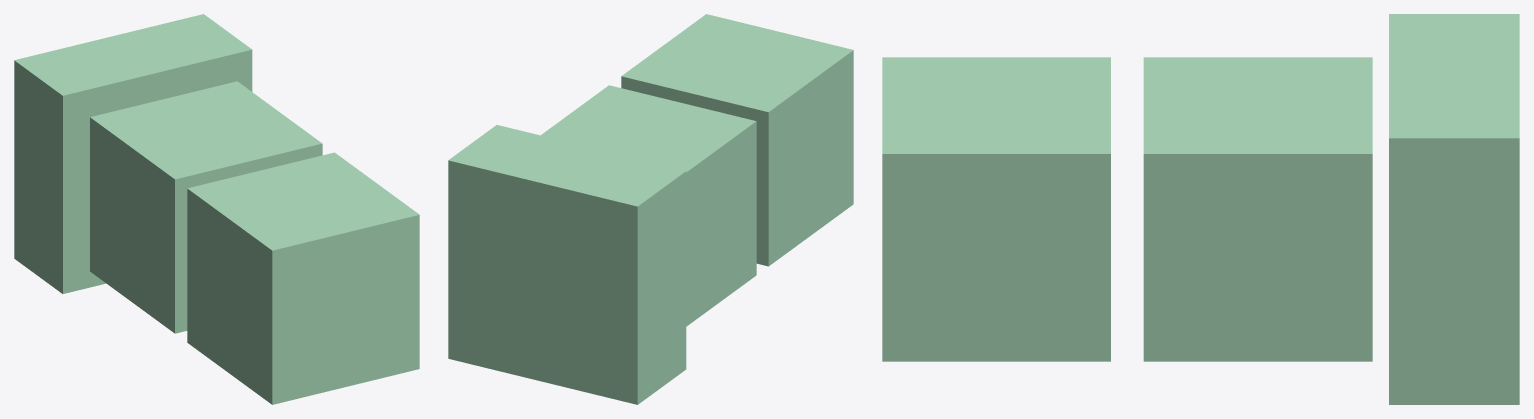
File: signal_tower_l1.glb
The picture shows the model from 3 angles, left to right: view 1: azimuth 30°, elevation 25°; view 2: azimuth 150°, elevation 25°; view 3: azimuth 270°, elevation 25°; orthographic projection. The views are drawn at different scales.
Visible parts, largest first — view 1: SIGNAL_TOWER; view 2: SIGNAL_TOWER; view 3: SIGNAL_TOWER.
Boxes of the visible parts, x1,y1,x2,y2 form: SIGNAL_TOWER: (14,14,419,404); SIGNAL_TOWER: (448,14,853,404); SIGNAL_TOWER: (882,14,1519,404).
Bounding box in the file's own units: 0.09 × 0.09 × 0.195.
